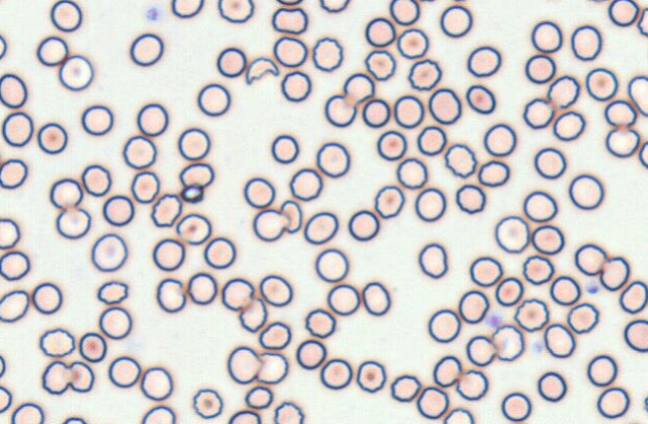PLT: (143, 2, 164, 24), (487, 310, 505, 327), (584, 279, 601, 296)
RBC: (90, 232, 127, 272), (226, 345, 261, 384), (58, 54, 94, 91), (568, 173, 604, 210), (494, 215, 529, 253), (316, 141, 350, 178), (513, 298, 549, 332), (491, 324, 524, 361), (428, 87, 461, 124), (252, 208, 288, 241), (175, 212, 211, 245), (122, 135, 156, 169), (129, 32, 163, 66), (314, 248, 348, 282), (427, 308, 460, 343), (303, 211, 338, 244), (55, 207, 91, 239), (1, 111, 33, 147), (570, 24, 602, 60), (289, 167, 322, 201), (221, 277, 254, 311), (547, 74, 580, 108), (140, 366, 173, 400), (439, 4, 472, 38), (98, 306, 132, 339), (152, 237, 185, 271), (585, 67, 618, 101), (311, 36, 343, 71), (543, 323, 575, 358), (444, 143, 476, 178), (522, 190, 557, 222), (466, 45, 501, 77), (155, 277, 186, 313), (108, 355, 141, 388), (203, 236, 236, 269), (197, 83, 230, 116), (483, 123, 516, 156), (177, 127, 210, 160), (49, 177, 83, 209), (150, 193, 182, 227), (407, 58, 441, 90), (596, 386, 630, 418), (326, 283, 360, 315), (469, 255, 503, 287), (136, 102, 168, 136), (414, 187, 446, 221), (599, 256, 630, 291), (605, 126, 640, 157), (458, 289, 489, 324), (39, 327, 75, 357), (418, 242, 448, 278), (256, 351, 288, 384), (416, 386, 448, 419), (324, 94, 356, 127), (574, 243, 607, 275), (530, 20, 562, 53), (259, 274, 292, 306), (533, 147, 566, 179), (273, 36, 307, 67), (374, 184, 405, 218), (393, 94, 424, 128), (364, 49, 396, 81), (522, 97, 554, 129), (50, 0, 82, 32), (102, 194, 134, 226), (243, 176, 275, 208), (347, 209, 379, 241), (455, 369, 488, 400), (566, 302, 599, 333), (319, 358, 352, 389), (552, 110, 585, 141), (41, 360, 71, 394), (356, 359, 386, 393), (238, 297, 267, 332), (361, 281, 390, 316), (271, 6, 307, 34), (343, 72, 374, 104), (396, 28, 428, 59), (396, 157, 427, 189), (280, 70, 311, 102), (31, 282, 62, 314), (36, 35, 68, 66), (522, 254, 554, 285), (586, 354, 617, 386), (81, 104, 113, 135), (130, 170, 160, 203), (187, 272, 217, 305), (531, 224, 564, 254), (465, 335, 496, 366), (192, 388, 223, 419), (304, 308, 336, 338), (81, 164, 111, 196), (37, 122, 67, 154), (0, 289, 29, 322), (258, 321, 291, 350), (619, 280, 647, 314), (0, 73, 27, 108), (295, 339, 326, 369), (364, 17, 395, 47), (500, 391, 531, 421), (216, 46, 246, 77), (376, 130, 407, 160), (549, 275, 580, 305), (537, 371, 567, 402), (455, 183, 485, 214), (524, 54, 555, 84), (432, 355, 461, 387), (179, 162, 214, 188), (0, 250, 30, 280), (416, 125, 446, 155), (465, 84, 495, 114), (78, 331, 107, 362), (604, 99, 636, 127), (477, 159, 509, 187), (494, 276, 523, 306), (361, 98, 390, 128), (270, 134, 299, 164), (217, 0, 254, 23), (390, 374, 420, 402), (0, 158, 27, 189), (68, 360, 94, 392), (607, 0, 639, 26), (627, 75, 647, 116), (623, 319, 647, 352), (279, 199, 302, 233), (389, 0, 420, 25), (96, 280, 128, 304), (244, 385, 273, 409), (11, 402, 44, 423), (273, 401, 304, 423), (0, 217, 20, 249), (140, 405, 175, 423), (171, 0, 203, 18), (443, 407, 473, 423), (228, 409, 261, 423), (180, 184, 204, 203), (319, 0, 350, 13), (0, 385, 12, 413), (637, 6, 648, 36), (638, 140, 647, 168), (0, 34, 7, 59), (62, 416, 87, 423), (0, 354, 6, 378), (275, 0, 303, 5), (451, 0, 472, 5), (643, 395, 648, 413)
Schistocyte: (245, 57, 280, 85)
